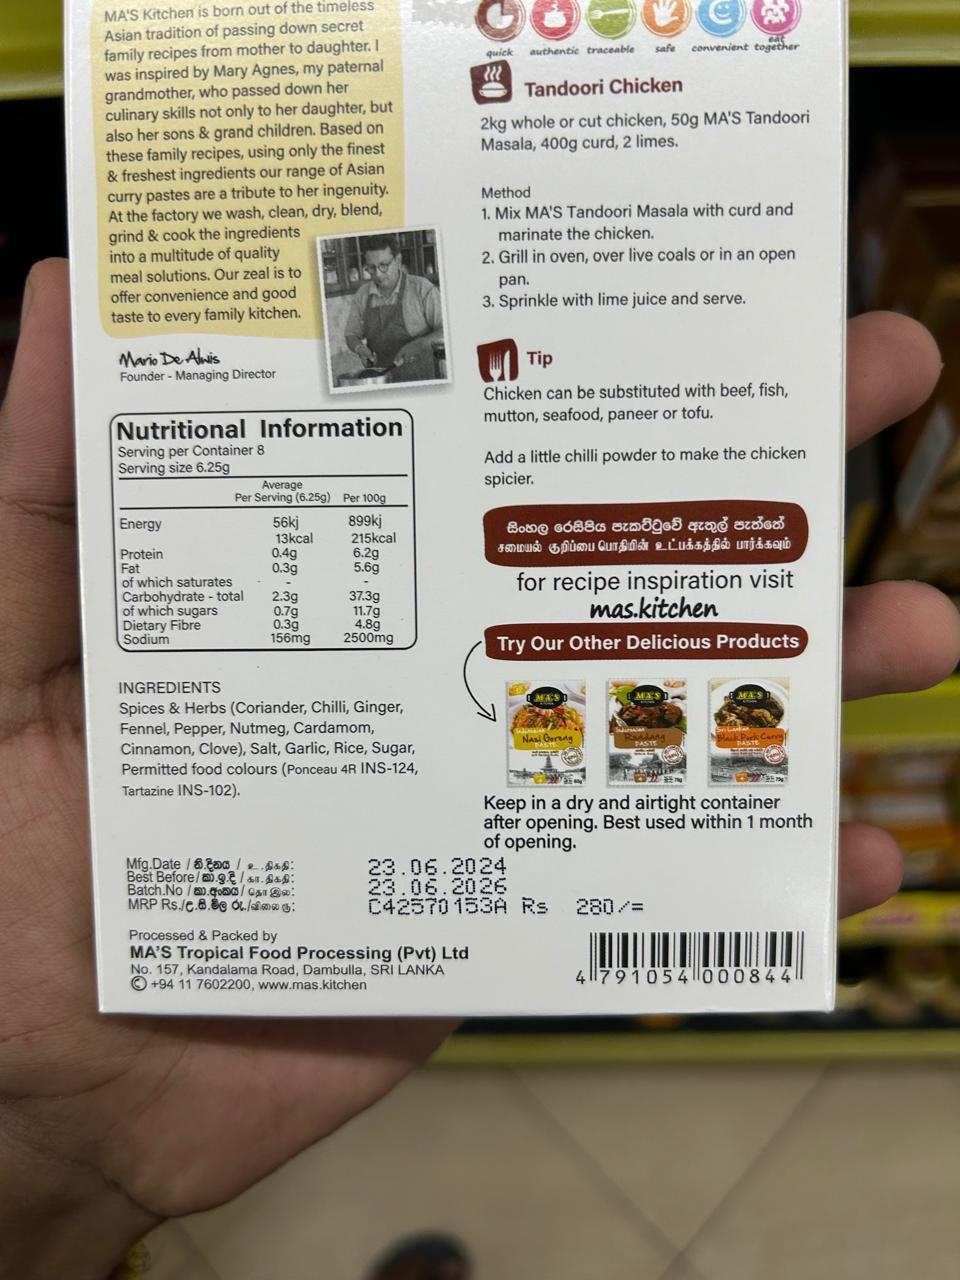ingredients: (96, 665, 444, 830)
